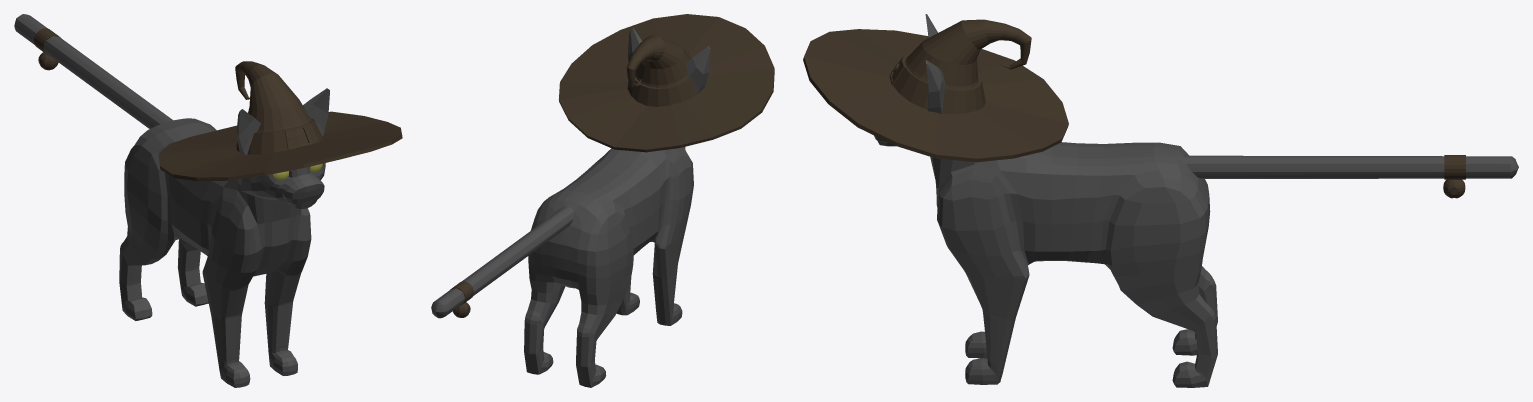
The model's file is cattest2.fbx.
3 renders of one model, left to right at view 1: azimuth 30°, elevation 25°; view 2: azimuth 150°, elevation 25°; view 3: azimuth 270°, elevation 25°, orthographic. The views are drawn at different scales.
Visible parts, largest first — view 1: kropp, accessories1; view 2: kropp, accessories1; view 3: kropp, accessories1.
Part boxes in pixels (x1=…): kropp: x1=14, y1=14, x2=329, y2=387; accessories1: x1=34, y1=28, x2=402, y2=181; kropp: x1=431, y1=28, x2=710, y2=387; accessories1: x1=450, y1=14, x2=774, y2=317; kropp: x1=874, y1=14, x2=1518, y2=387; accessories1: x1=803, y1=19, x2=1465, y2=198.
Size of the model in its own units: 2.24 by 3.09 by 5.79.
